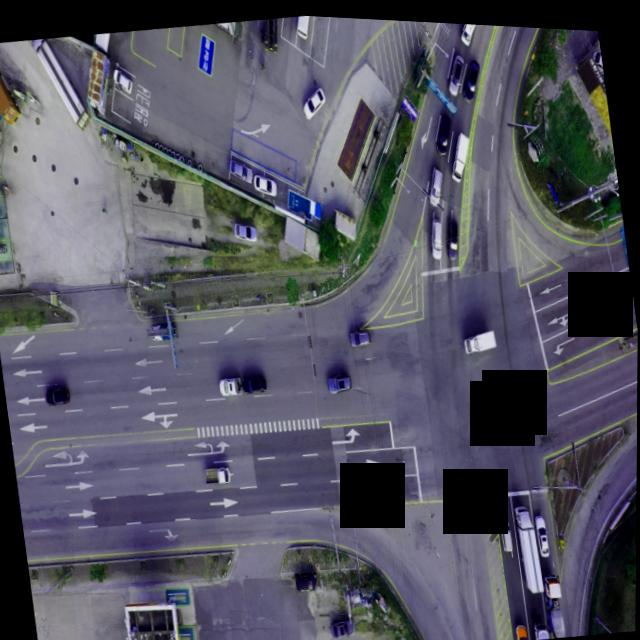car: (442, 47, 467, 92), (457, 51, 482, 96), (423, 159, 446, 203), (300, 81, 328, 117), (432, 105, 455, 148), (441, 210, 461, 256), (228, 150, 255, 181), (427, 212, 446, 256), (251, 167, 276, 195), (110, 64, 132, 94), (535, 508, 550, 550), (233, 216, 258, 241), (498, 511, 514, 547), (43, 382, 69, 404), (327, 367, 352, 389), (241, 369, 266, 391), (217, 372, 241, 394), (330, 613, 354, 635), (294, 568, 318, 590), (347, 322, 369, 343), (516, 617, 529, 636)
medium_truck: (29, 33, 88, 133), (511, 500, 543, 591), (541, 570, 565, 633), (257, 14, 279, 50), (533, 616, 549, 635)
small_bus: (294, 12, 315, 36)
small_truck: (445, 124, 474, 180), (462, 321, 497, 350), (457, 19, 487, 43), (203, 460, 231, 485)
